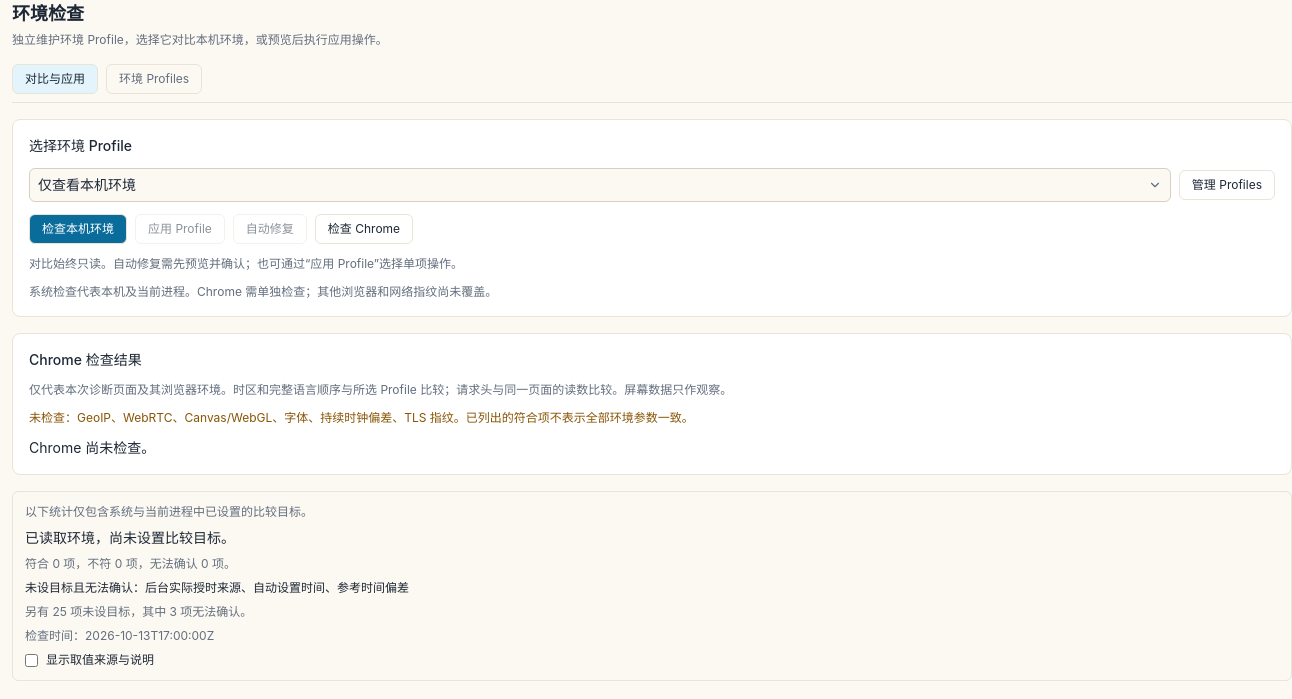
it: Environment checks › names mismatches and unknown targets in the completion toast and persistent summary
Expected: the text "已读取环境，尚未设置比较目标。" is shown, [25, 529, 235, 546]
Click the dropdown named "选择环境 Profile": x=87, y=184 [29, 168, 1171, 202]
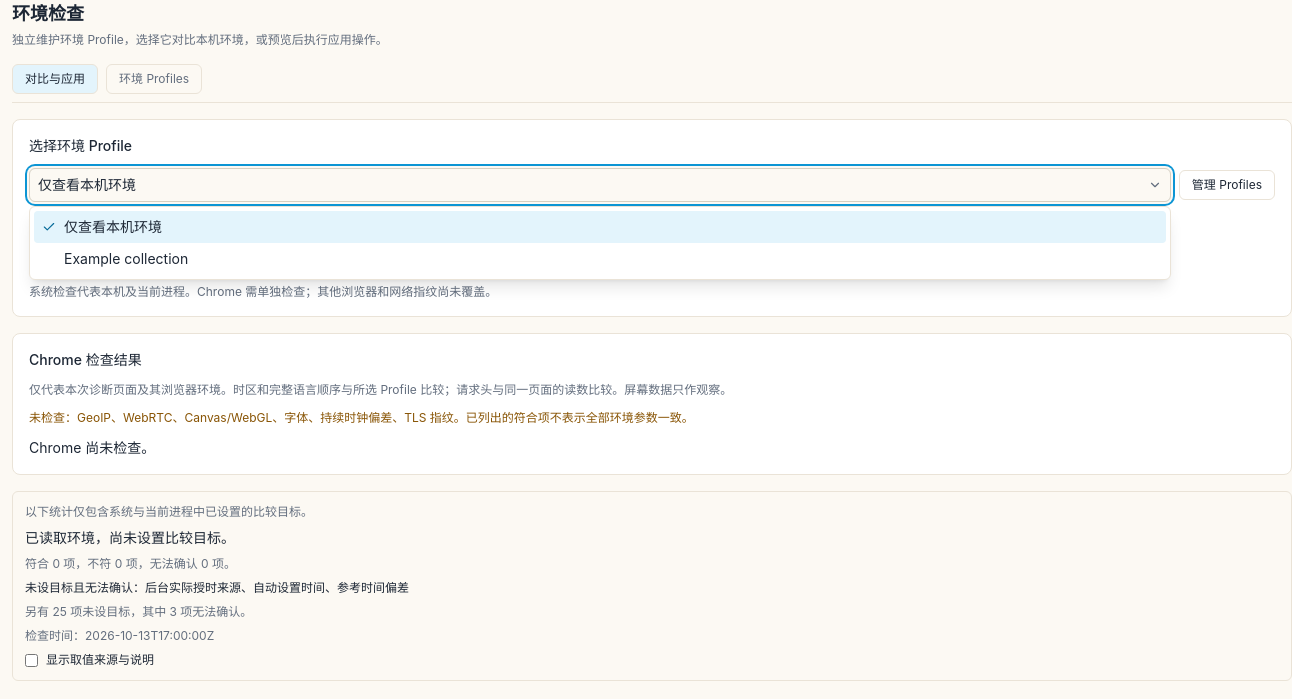
Click the option "Example collection": x=126, y=258 [64, 250, 188, 267]
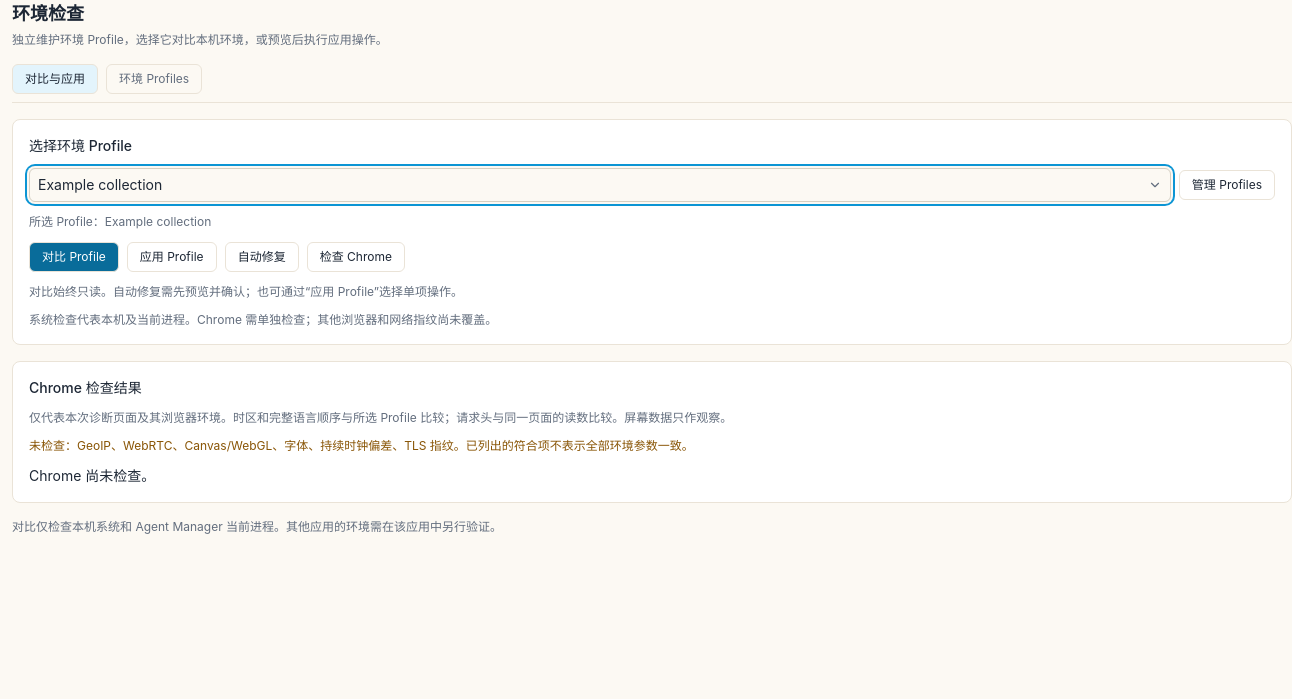
Click the button "对比 Profile": x=74, y=257 [29, 242, 119, 272]
(page scrolled)
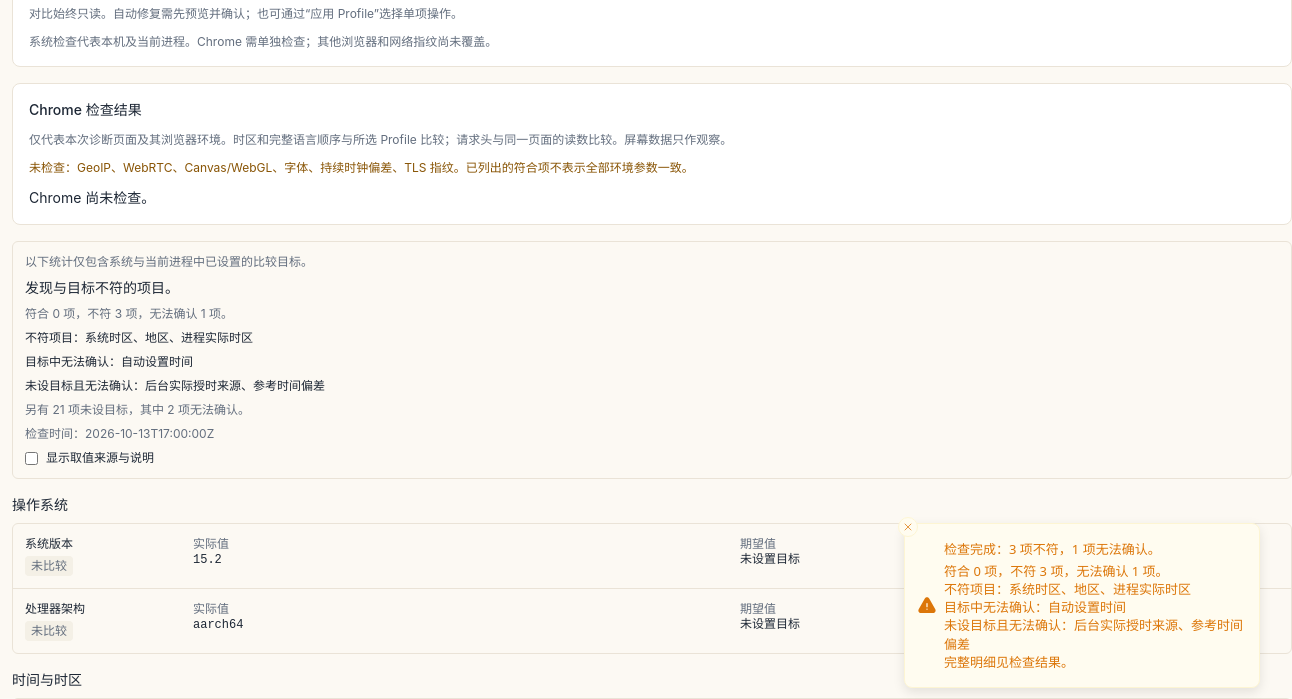
Expected: the list item shows "检查完成：3 项不符，1 项无法确认。", [944, 540, 1161, 558]
Expected: the list item shows "不符项目：系统时区、地区、进程实际时区", [944, 562, 1243, 671]
Expected: the list item shows "目标中无法确认：自动设置时间", [944, 562, 1243, 671]
